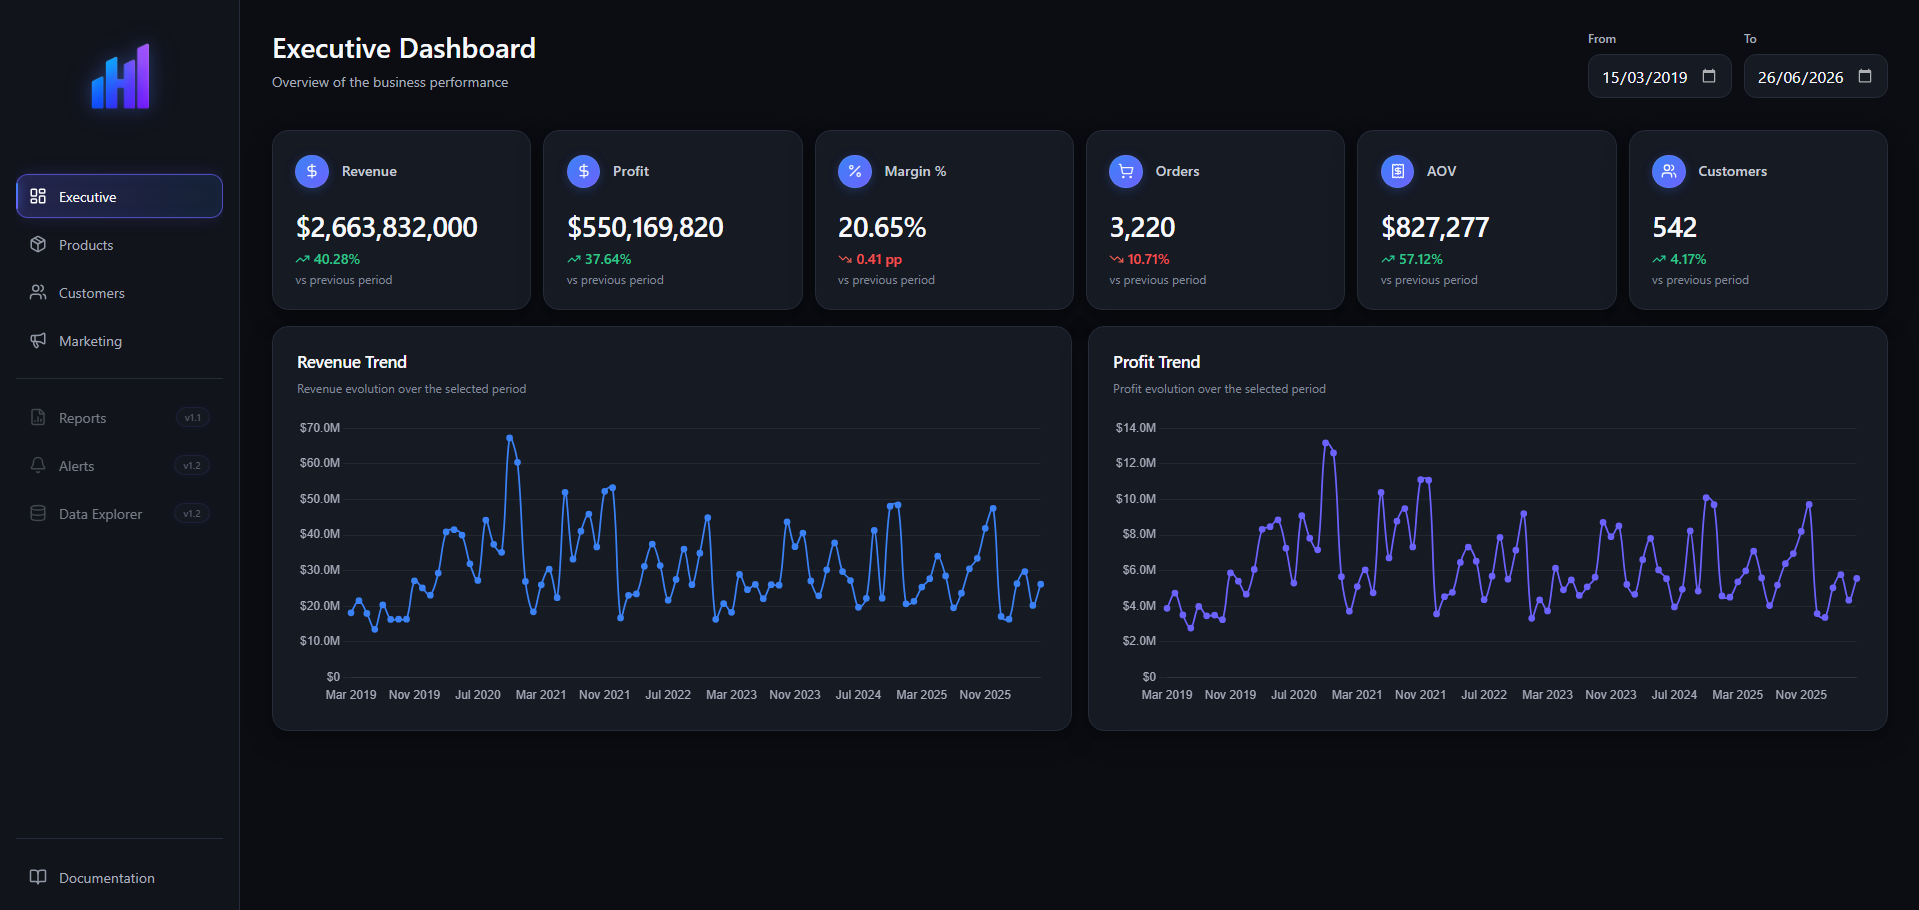

The dashboard page shown, as its layout file describes it:
{"tool":"powerbi","page":{"name":"Dashboard Ejecutivo","canvas":[1280,720],"ordinal":0},"visuals":[{"type":"cardVisual","title":"Revenue","fields":{"Data":["Detalle Compra.Revenue"]},"box":[18,116,190,125],"z":0},{"type":"lineChart","title":"Revenue Trend","fields":{"Y":["Detalle Compra.Revenue"],"Category":["Calendario.Mes Corto ENG"]},"box":[18,267,613,420],"z":1000},{"type":"lineChart","title":"Profit Trend","fields":{"Category":["Calendario.Mes Corto ENG"],"Y":["Detalle Compra.Profit"]},"box":[653,267,613,420],"z":2000},{"type":"textbox","box":[18,0,439,62],"z":3000},{"type":"textbox","box":[18,55,303,44],"z":4000},{"type":"cardVisual","title":"Profit","fields":{"Data":["Detalle Compra.Profit"]},"box":[229.6,116,190,125],"z":5000},{"type":"cardVisual","title":"Margin %","fields":{"Data":["Detalle Compra.Margin"]},"box":[450,116,190,125],"z":6000},{"type":"cardVisual","title":"Orders","fields":{"Data":["Compra.Orders"]},"box":[652.8,116,190,125],"z":7000},{"type":"cardVisual","title":"Customers","fields":{"Data":["Compra.Customers"]},"box":[864.4,116,190,125],"z":8000},{"type":"cardVisual","title":"AOV","fields":{"Data":["Detalle Compra.AOV"]},"box":[1076,116,190,125],"z":9000},{"type":"slicer","fields":{"Values":["Calendario.Date"]},"box":[1028,10,238,89],"z":11000}]}

Visuals, with their boxes on the page's 1280x720 design canvas (x1, y1, x2, y2). These are canvas units, not pixel positions in the 1919x910 screenshot, which may show the page scaled, cropped or inside an application window:
"Revenue" cardVisual: 18,116,208,241
"Revenue Trend" lineChart: 18,267,631,687
"Profit Trend" lineChart: 653,267,1266,687
textbox: 18,0,457,62
textbox: 18,55,321,99
"Profit" cardVisual: 230,116,420,241
"Margin %" cardVisual: 450,116,640,241
"Orders" cardVisual: 653,116,843,241
"Customers" cardVisual: 864,116,1054,241
"AOV" cardVisual: 1076,116,1266,241
slicer - Calendario.Date: 1028,10,1266,99
